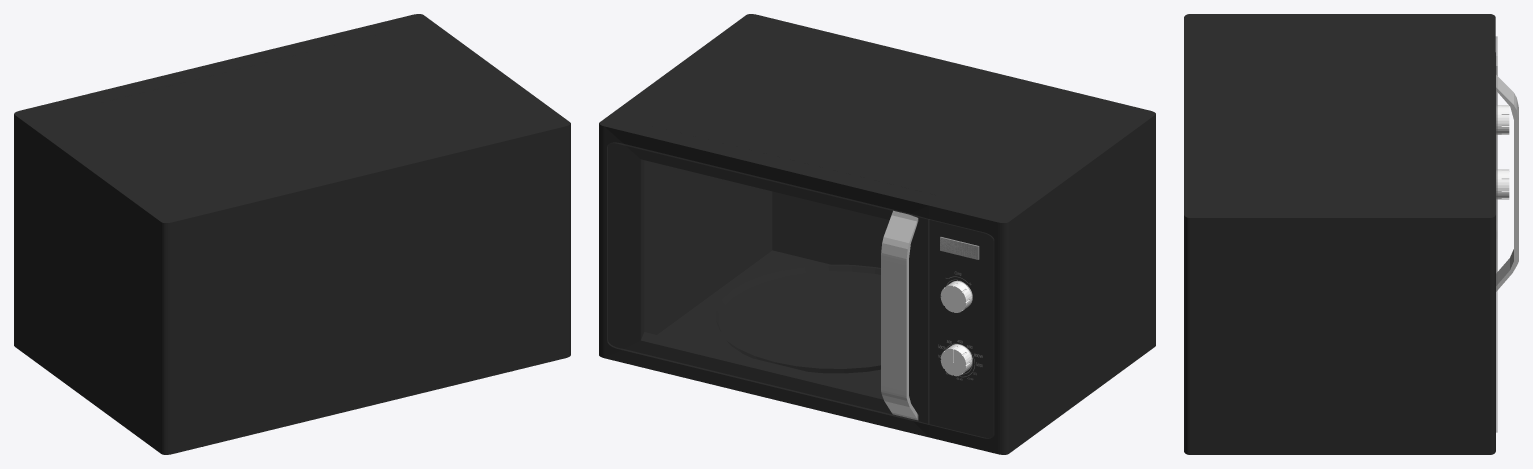
The model's file is microwave-hf.gltf.
3 views of the same model, side by side, from view 1: azimuth 30°, elevation 25°; view 2: azimuth 150°, elevation 25°; view 3: azimuth 270°, elevation 25° (orthographic). The views are drawn at different scales.
Visible parts, largest first — view 1: microwave-hf, Door_primitive1, door right; view 2: microwave-hf, Door_primitive2, Door_primitive1, door right, Plate, door glass right, Door_primitive0, knob modified, knob modified 2, screen; view 3: microwave-hf, Door_primitive1, Door_primitive0, door right, Door_primitive2, knob modified 2, knob modified.
Boxes of the visible parts, <box> form: microwave-hf: <box>24,22,570,454</box>; Door_primitive1: <box>89,14,432,102</box>; door right: <box>14,94,100,352</box>; microwave-hf: <box>609,14,1155,446</box>; Door_primitive2: <box>607,142,928,424</box>; Door_primitive1: <box>599,115,940,437</box>; door right: <box>929,196,1017,454</box>; Plate: <box>713,264,880,373</box>; door glass right: <box>928,219,993,438</box>; Door_primitive0: <box>881,210,918,420</box>; knob modified: <box>940,280,972,312</box>; knob modified 2: <box>940,344,972,376</box>; screen: <box>940,237,979,259</box>; microwave-hf: <box>1184,14,1470,454</box>; Door_primitive1: <box>1470,52,1495,454</box>; Door_primitive0: <box>1496,75,1518,291</box>; door right: <box>1470,14,1495,52</box>; Door_primitive2: <box>1496,66,1497,432</box>; knob modified 2: <box>1496,169,1509,199</box>; knob modified: <box>1496,105,1509,134</box>.
Size of the model in its own units: 0.48 by 0.2699 by 0.333.
